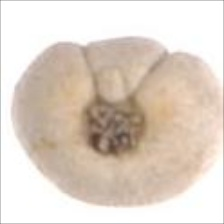L5: (79, 35, 173, 103), (54, 174, 190, 213), (82, 94, 152, 159)
L6: (7, 34, 224, 210)
